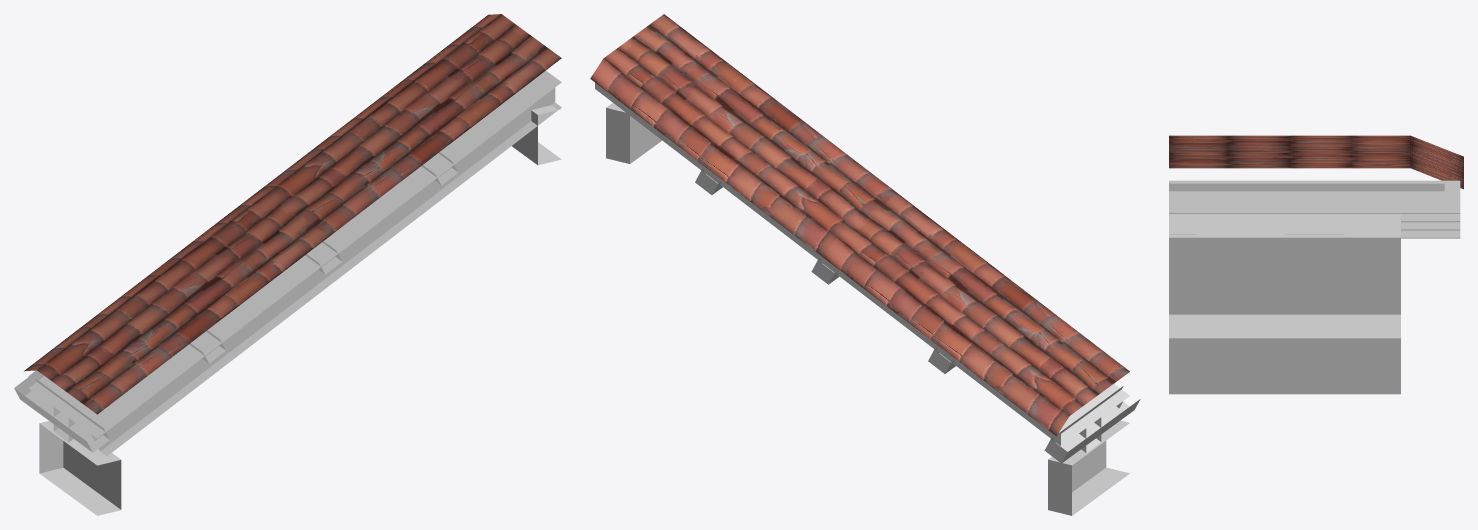
File: WallKit_Verge_Right_LOD1.fbx
The picture shows the model from 3 angles, left to right: view 1: azimuth 30°, elevation 25°; view 2: azimuth 150°, elevation 25°; view 3: azimuth 270°, elevation 25°; orthographic projection. The views are drawn at different scales.
Visible parts, largest first — view 1: WallKit_Verge_Right_LOD1; view 2: WallKit_Verge_Right_LOD1; view 3: WallKit_Verge_Right_LOD1.
Part boxes in pixels (left/top/right/bottom): WallKit_Verge_Right_LOD1: left=14, top=14, right=561, bottom=515; WallKit_Verge_Right_LOD1: left=590, top=14, right=1140, bottom=515; WallKit_Verge_Right_LOD1: left=1169, top=135, right=1463, bottom=394.
Size of the model in its own units: 409 by 283 by 110.
